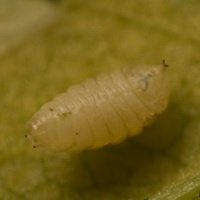insect: (28, 61, 169, 150)
